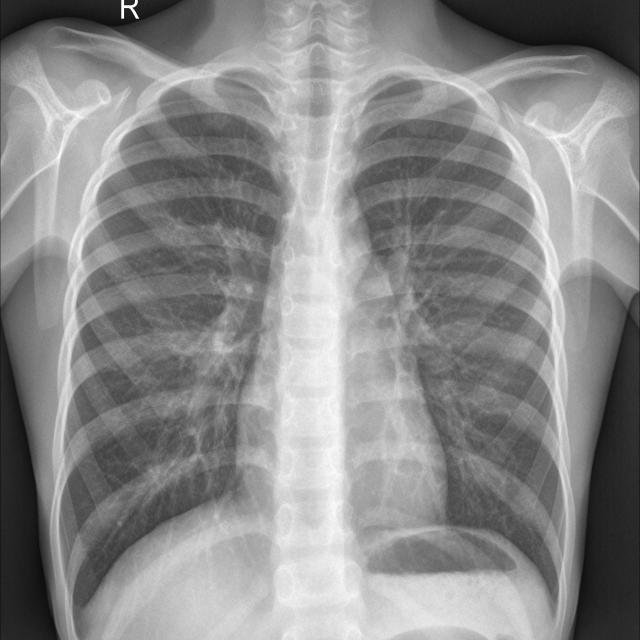no-pneumonia: (62, 77, 286, 607), (352, 81, 561, 597)
